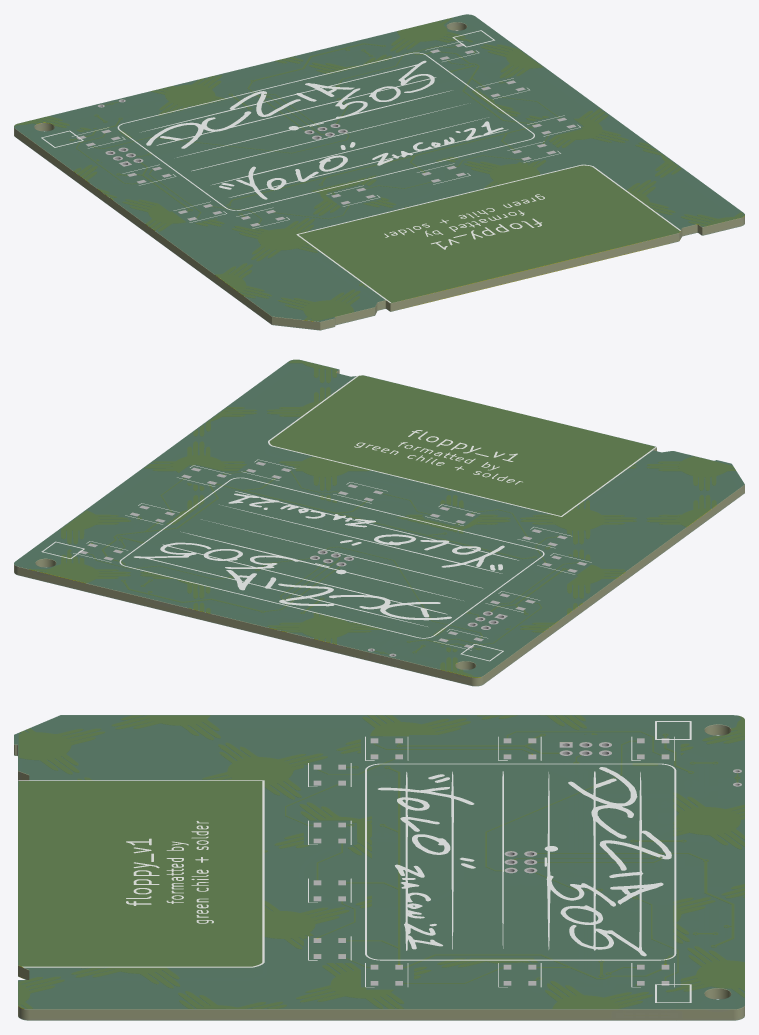
The model's file is dczia-yolobadge-ziacon-2.glb.
The picture shows the model from 3 angles, top to bottom: view 1: azimuth 30°, elevation 25°; view 2: azimuth 150°, elevation 25°; view 3: azimuth 270°, elevation 25°; orthographic projection. The views are drawn at different scales.
Parts seen in each view (by area): view 1: =>[0:1:1:7], =>[0:1:1:9], =>[0:1:1:2], =>[0:1:1:5]; view 2: =>[0:1:1:7], =>[0:1:1:9], =>[0:1:1:2], =>[0:1:1:5]; view 3: =>[0:1:1:7], =>[0:1:1:9], =>[0:1:1:2], =>[0:1:1:5].
Boxes of the visible parts, x1=… form: =>[0:1:1:7]: x1=14, y1=14, x2=744, y2=330; =>[0:1:1:9]: x1=14, y1=15, x2=744, y2=330; =>[0:1:1:2]: x1=14, y1=18, x2=744, y2=321; =>[0:1:1:5]: x1=41, y1=30, x2=680, y2=302; =>[0:1:1:7]: x1=14, y1=359, x2=744, y2=686; =>[0:1:1:9]: x1=14, y1=363, x2=744, y2=686; =>[0:1:1:2]: x1=29, y1=360, x2=735, y2=677; =>[0:1:1:5]: x1=41, y1=375, x2=656, y2=661; =>[0:1:1:7]: x1=14, y1=715, x2=744, y2=1020; =>[0:1:1:9]: x1=14, y1=716, x2=744, y2=1020; =>[0:1:1:2]: x1=18, y1=716, x2=744, y2=1008; =>[0:1:1:5]: x1=18, y1=721, x2=691, y2=1020.
Size of the model in its own units: 0.09 by 0.00166 by 0.0945.
Materials: 4 (4 with a texture image).
